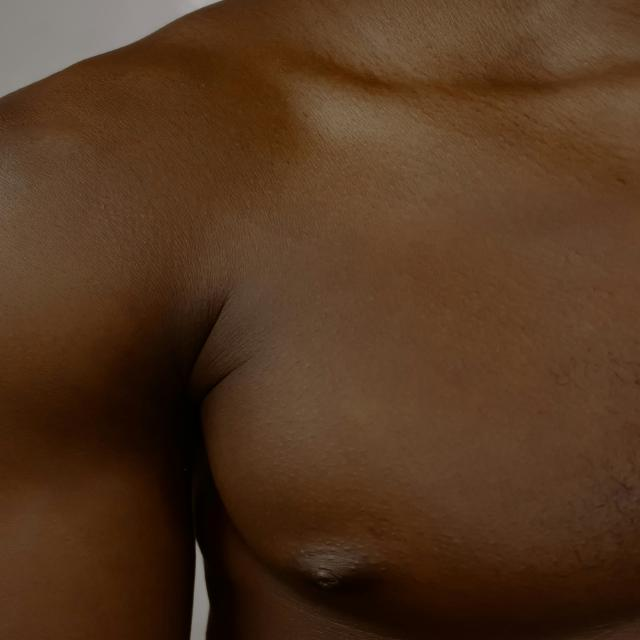piel: (2, 0, 640, 640)
